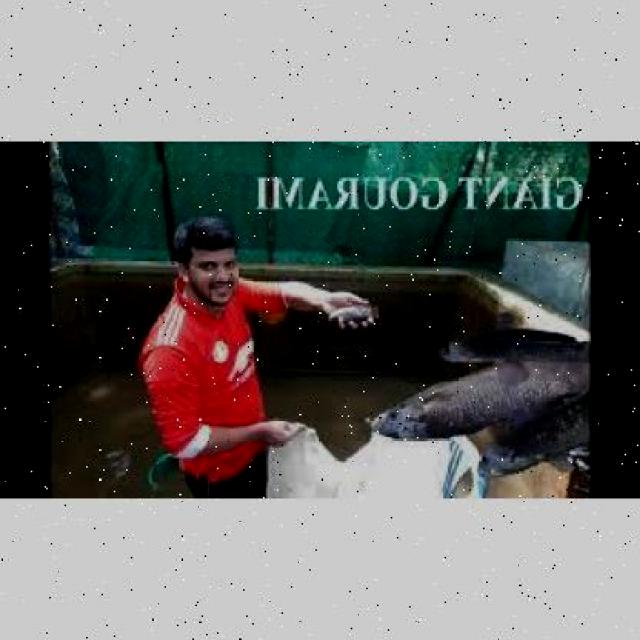gurame: (369, 358, 594, 436), (478, 403, 594, 474), (437, 322, 591, 364)
